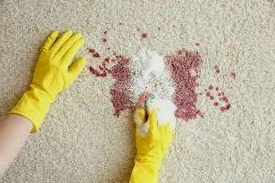wine: (84, 41, 137, 112), (170, 49, 206, 124), (204, 85, 233, 115), (209, 65, 238, 81), (132, 27, 154, 42)
